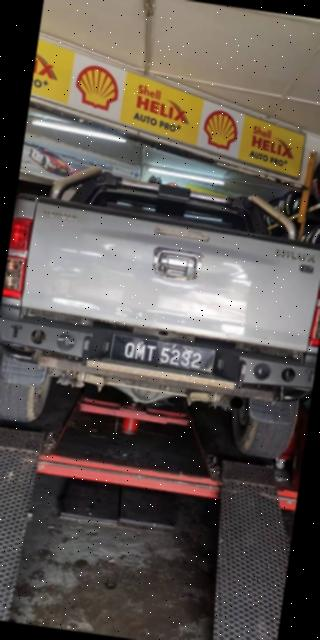License_Plate: (111, 336, 216, 374)
car: (1, 149, 320, 493)
